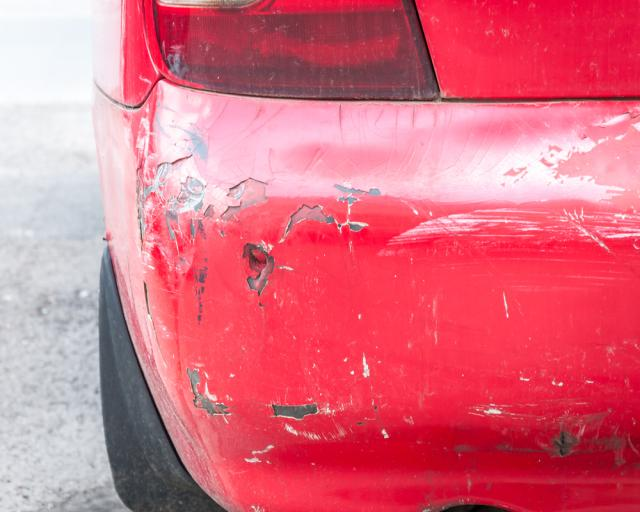scratch: (130, 101, 640, 475)
